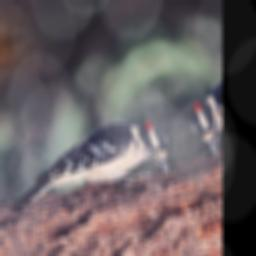Woodpecker: (0, 101, 183, 233)
